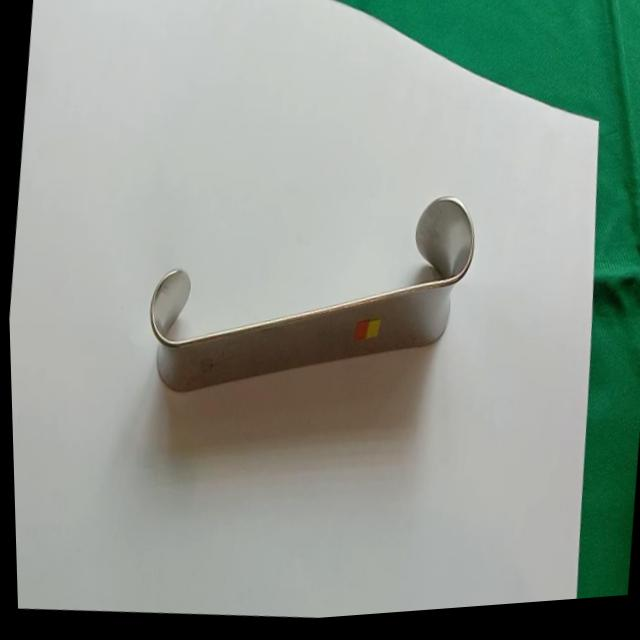CheekRetractor: (136, 166, 482, 426)
